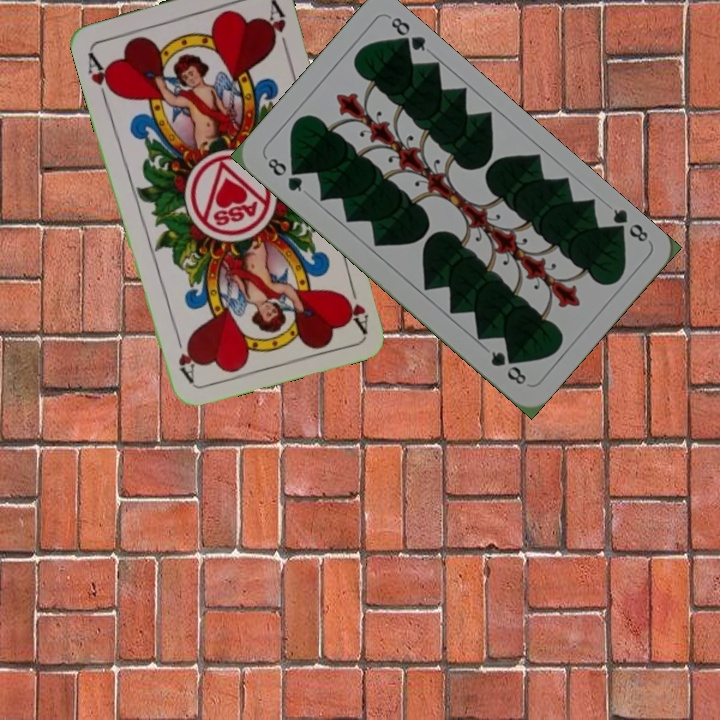G8: (605, 204, 651, 245), (263, 153, 306, 195)
HA: (83, 48, 118, 105), (339, 276, 371, 334)
